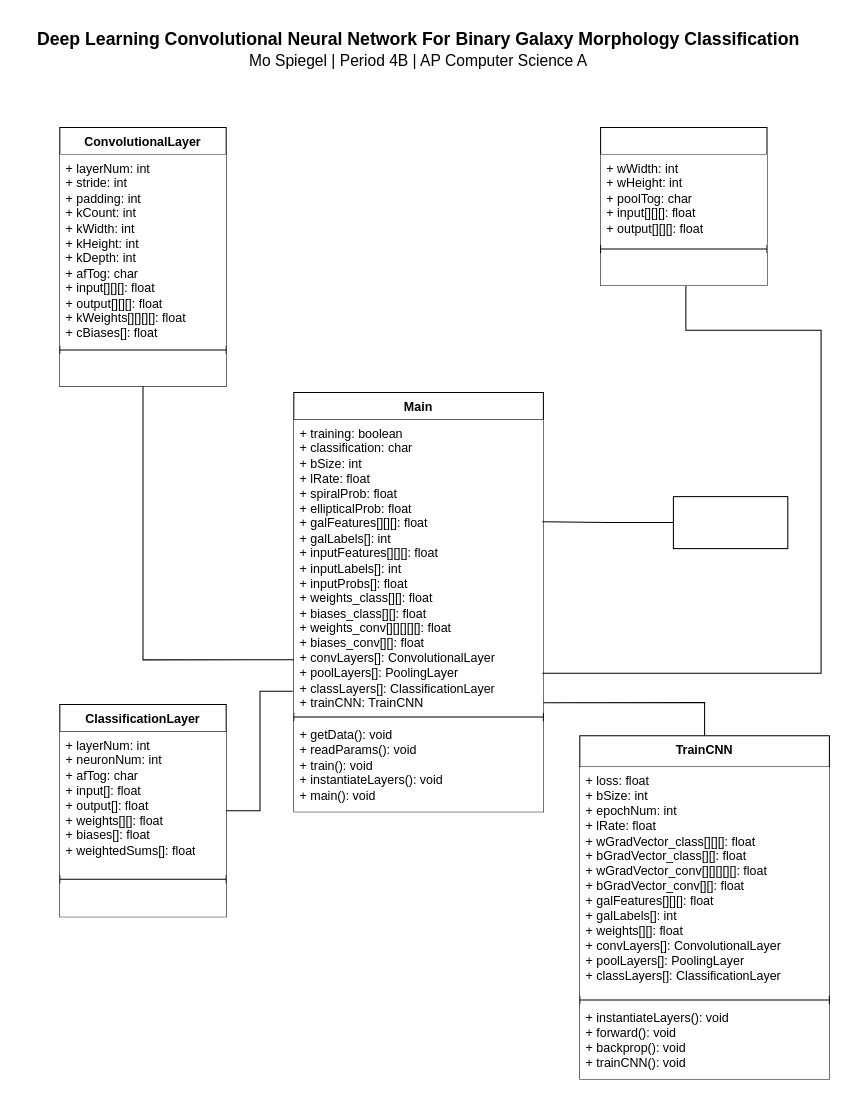
Image size: 848x1099. Some labels were removed from this diagram. Here are the shapes that lost their labels. From the top down, the box of each, then its label:
(600, 126, 767, 285): PoolingLayer
(600, 253, 766, 285): + runPooling(): float[][][]
(59, 354, 226, 386): + runConvolution(): float[][][]
(672, 496, 788, 549): «datasource» Galaxy Zoo 2
(59, 883, 226, 916): + runLayer(): float[]
